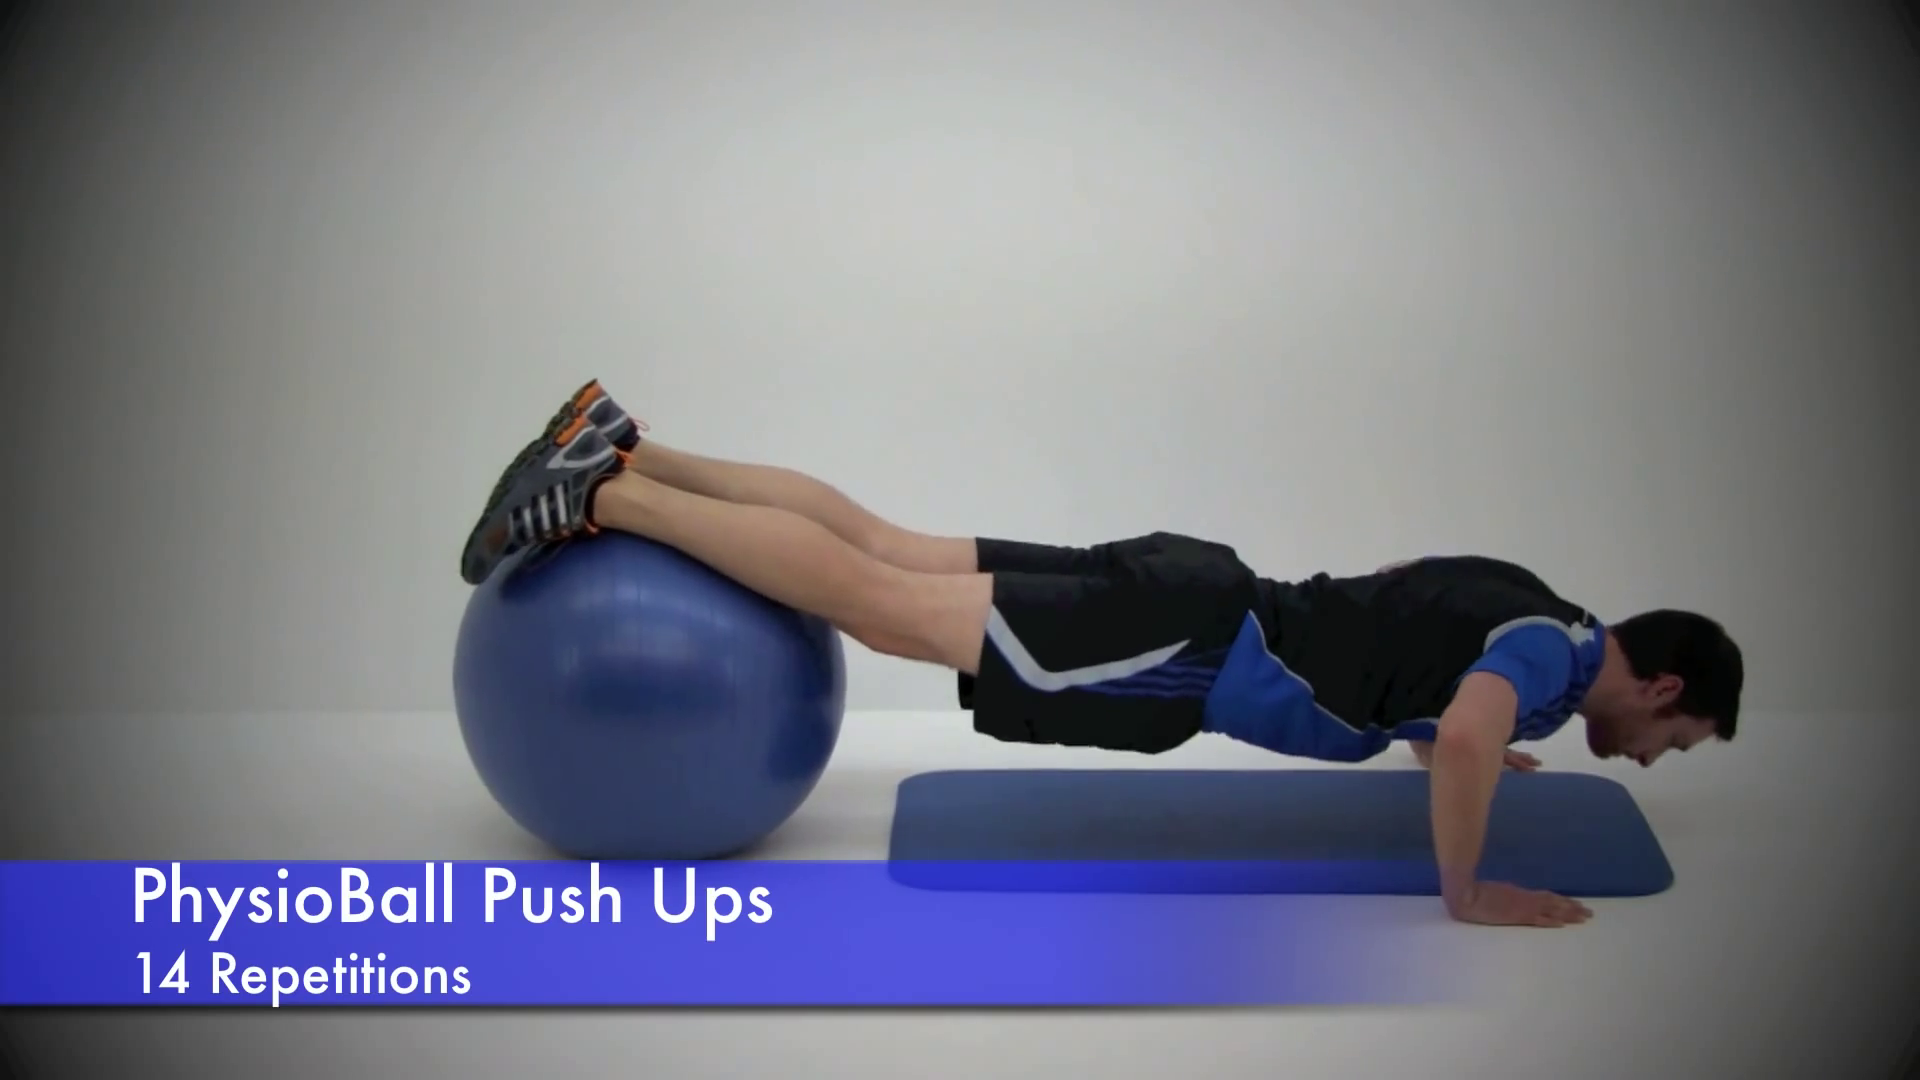yogaball: (443, 524, 860, 860)
